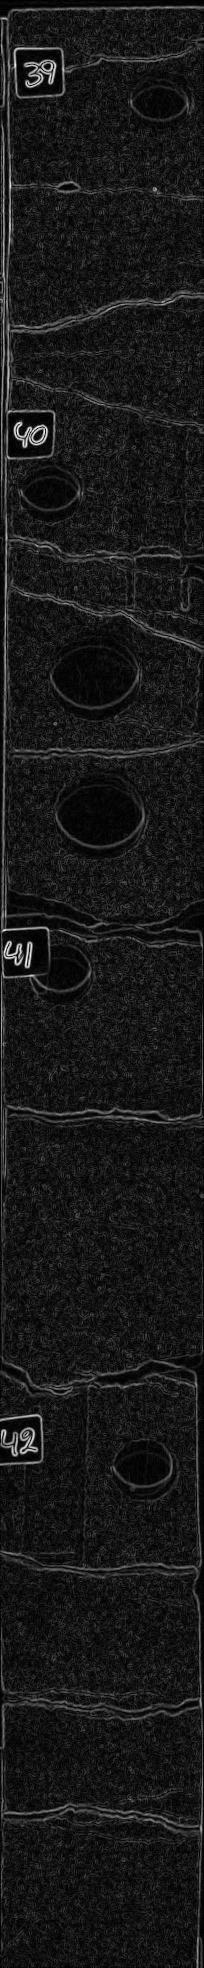hplug: (23, 935, 103, 1015), (105, 1431, 186, 1509), (11, 458, 94, 528), (121, 67, 196, 139)
scal: (41, 625, 146, 727), (46, 764, 151, 866)
vplug: (113, 410, 199, 623), (19, 1374, 98, 1574)
